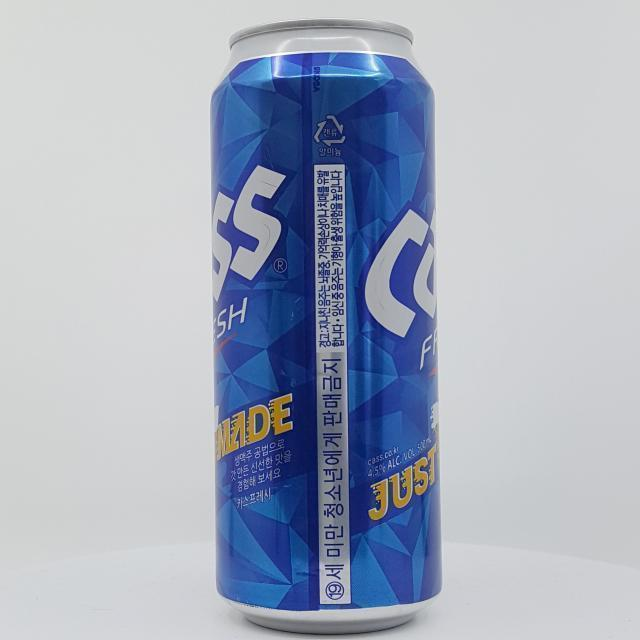bottles: (209, 17, 443, 634)
